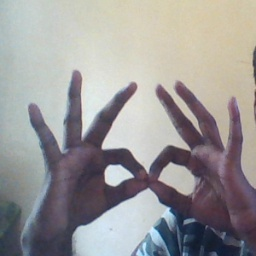B: (81, 120, 209, 207)
